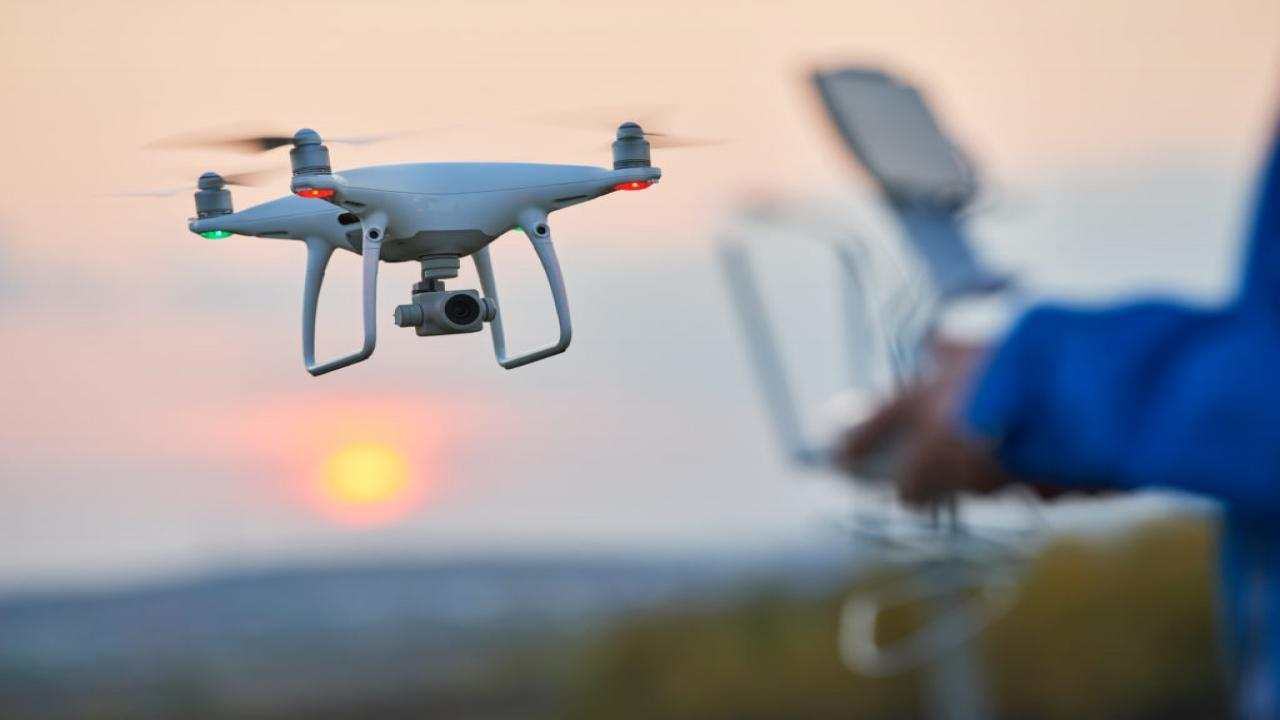Drone: (112, 102, 752, 383)
